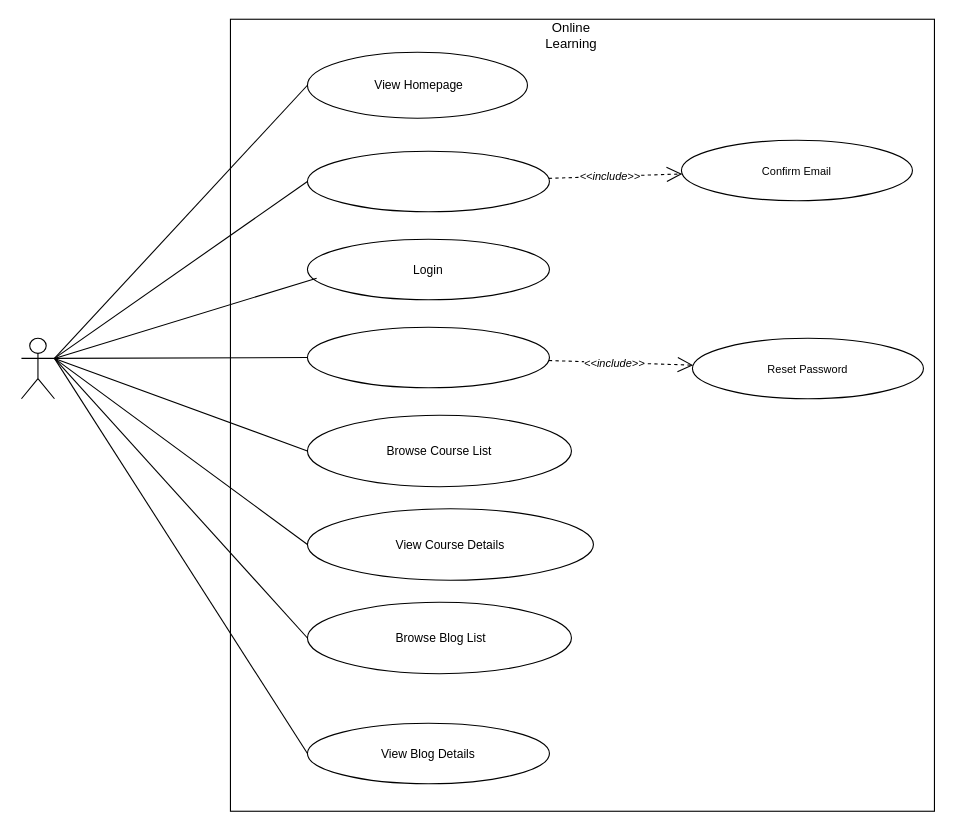
This 954x831 diagram has some shape labels left out. The centre of each missing label's shape, as x and y in pixels:
"Forgot Password" goes at point (427, 357).
"Guest" goes at point (37, 368).
"Register Account" goes at point (427, 181).
